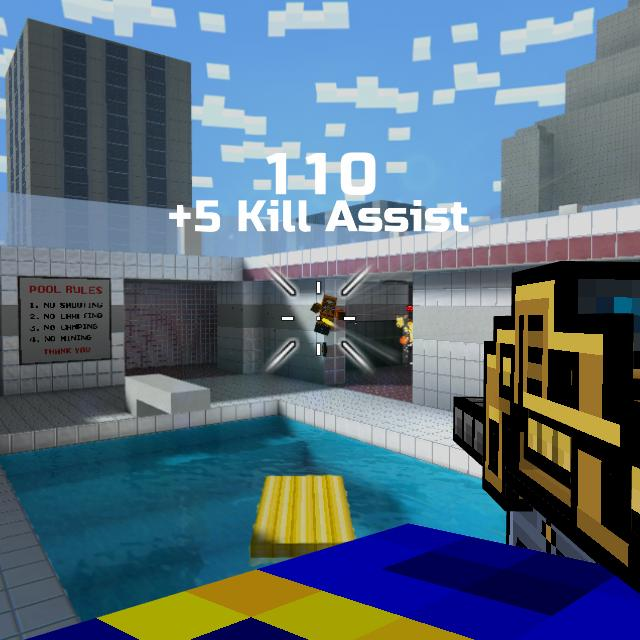Enemy: (408, 311, 414, 344)
